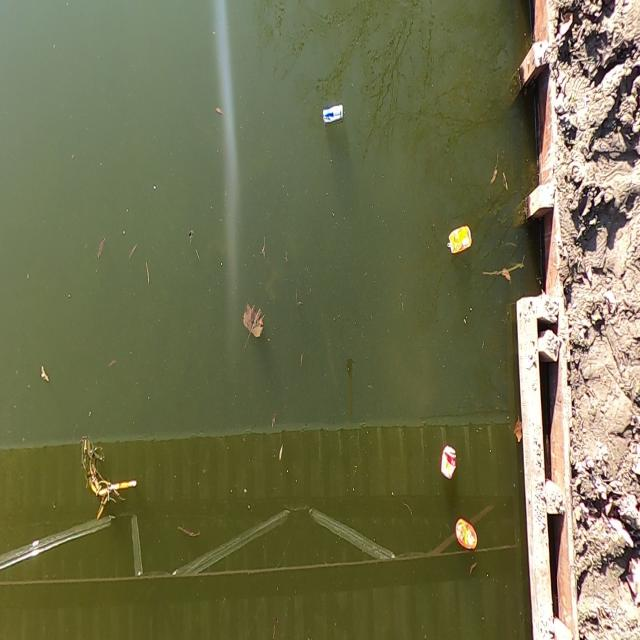Non plastique: (453, 511, 481, 566), (445, 220, 478, 262), (318, 95, 348, 135), (438, 436, 462, 486)
